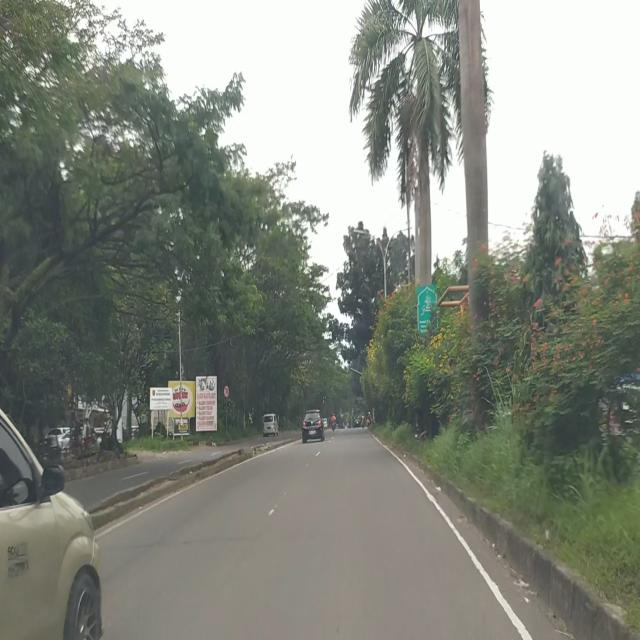Sewer Cover: (132, 535, 252, 547)
